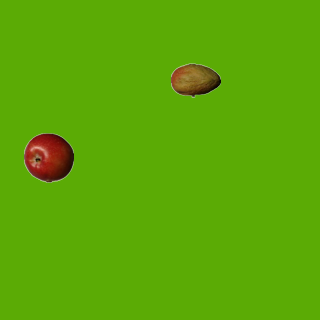Apple Braeburn: (23, 132, 73, 182)
Papaya: (170, 55, 220, 105)
